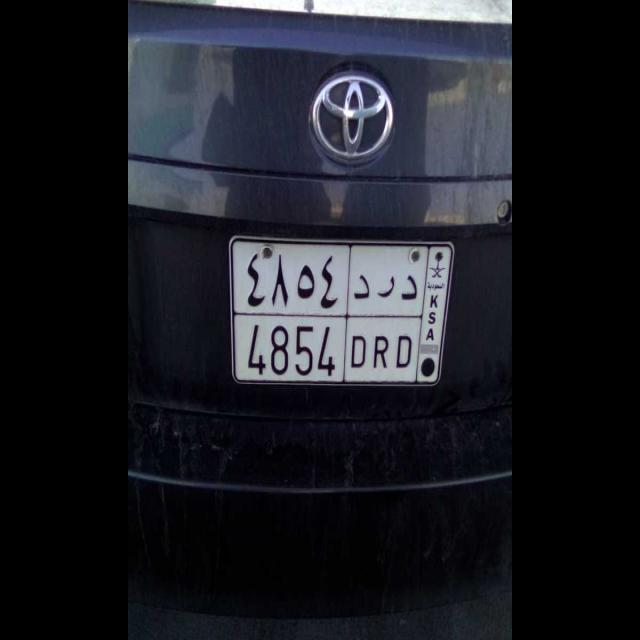license_plate: (225, 308, 420, 394)
